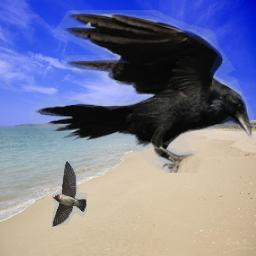Crow: (30, 10, 254, 173)
Swallow: (52, 161, 87, 227)
